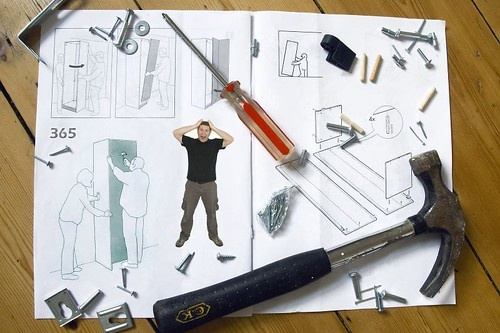hammer: (153, 150, 468, 331)
